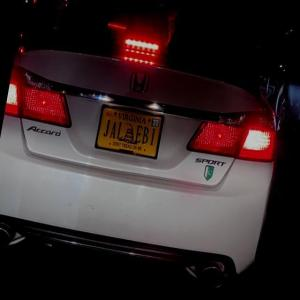Plate: (94, 103, 165, 159)
